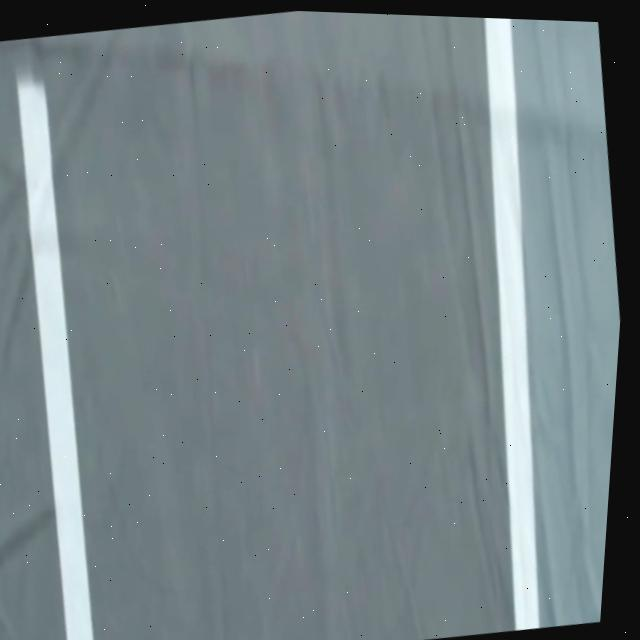center: (17, 61, 94, 640)
left: (486, 18, 540, 630)
